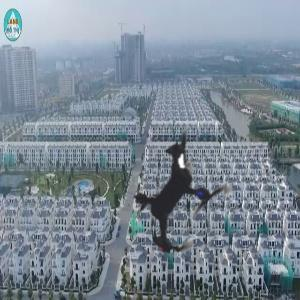drone: (86, 102, 277, 293)
